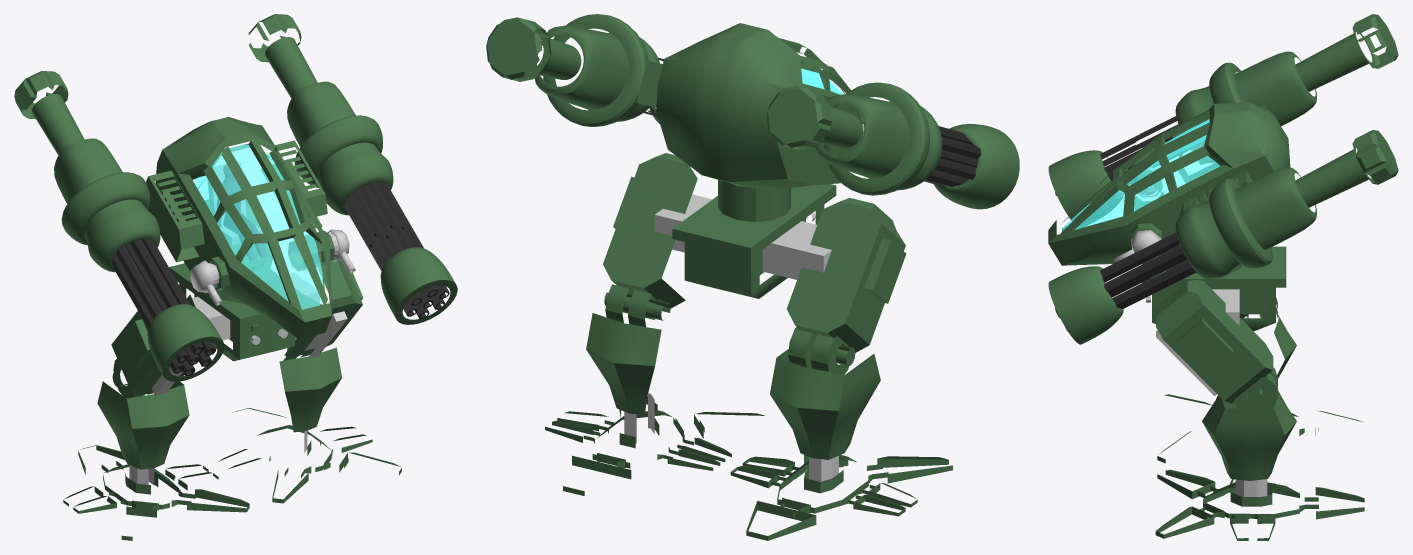
Rendered from mech_andador.glb.
3 renders of one model, left to right at view 1: azimuth 30°, elevation 25°; view 2: azimuth 150°, elevation 25°; view 3: azimuth 270°, elevation 25°, orthographic. The views are drawn at different scales.
Visible parts, largest first — view 1: Cube; view 2: Cube; view 3: Cube.
Boxes of the visible parts, bbox=[...] form: Cube: bbox=[14, 14, 457, 540]; Cube: bbox=[486, 14, 1019, 540]; Cube: bbox=[1048, 14, 1398, 540].
Bounding box in the file's own units: 16.43 × 19.31 × 15.54.
